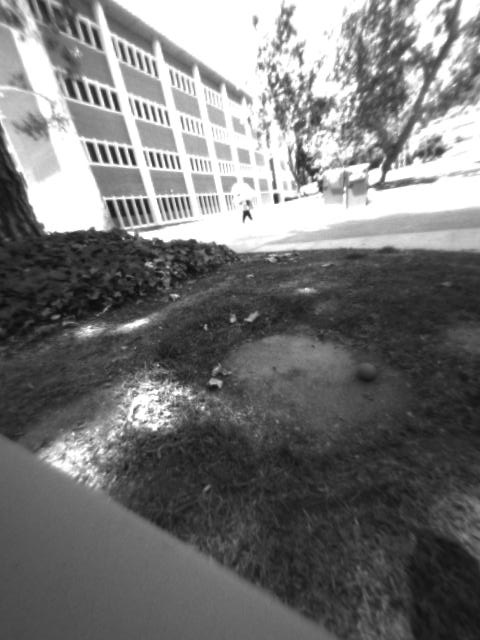dogtoy: (348, 351, 392, 387)
